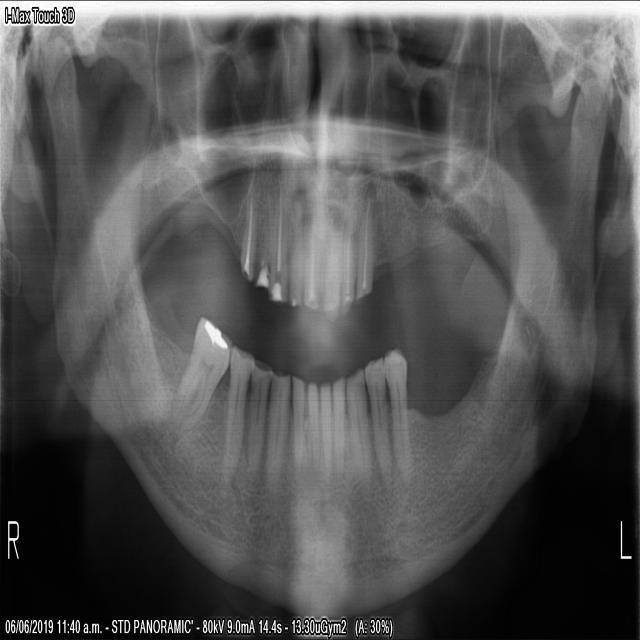LCD: (344, 359, 371, 475)
LCU: (354, 198, 377, 303)
LID: (331, 373, 351, 476), (318, 377, 333, 477)
LIU: (321, 221, 343, 322), (339, 220, 359, 317)
LPMD: (381, 341, 413, 477), (362, 350, 393, 486)
RCD: (262, 364, 290, 477)
RCU: (268, 204, 287, 304)
RID: (288, 368, 305, 473), (304, 373, 321, 473)
RIU: (300, 218, 320, 313), (286, 213, 305, 311)
RMD: (174, 308, 232, 421)
RPMD: (239, 353, 272, 471), (221, 340, 253, 444)
RPMU: (237, 192, 259, 284), (252, 199, 271, 288)
